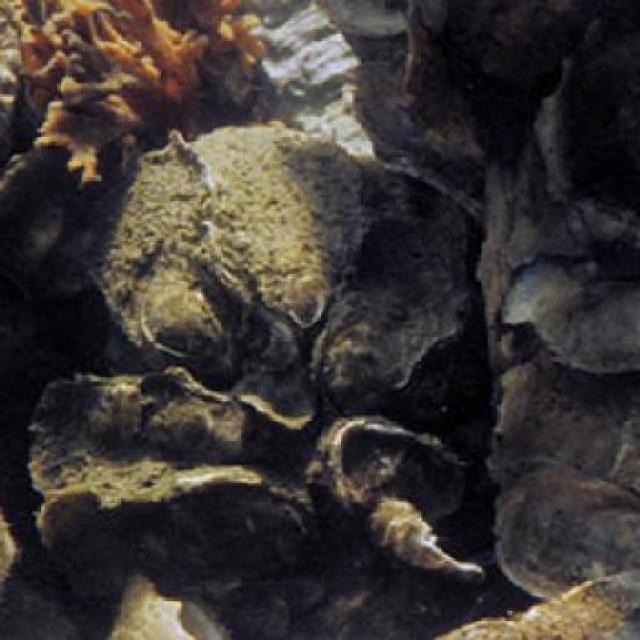Oyster- Indeterminate: (91, 119, 369, 376), (4, 368, 322, 572), (307, 161, 478, 415), (488, 457, 638, 604), (486, 359, 640, 488), (493, 242, 640, 377), (430, 567, 637, 638)
Oyster-Open: (307, 412, 487, 586)
